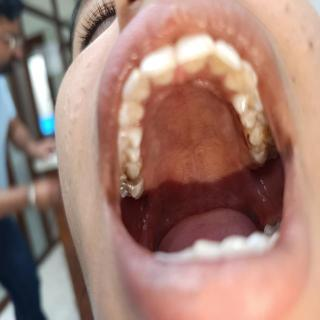cavities: (114, 169, 138, 187)
